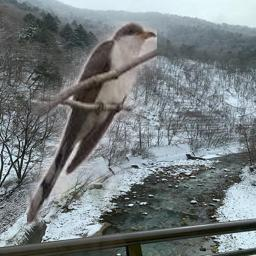Cuckoo: (27, 21, 157, 226)
